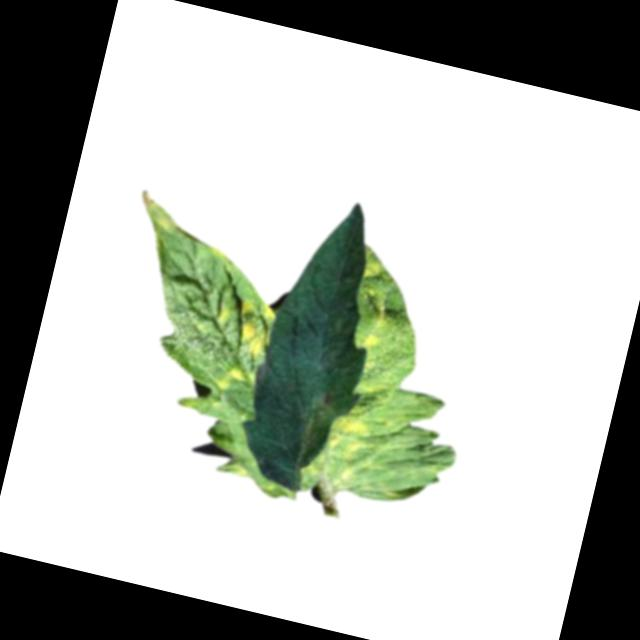Leaf_Mold: (208, 290, 279, 356), (322, 413, 374, 458), (212, 358, 250, 397)
